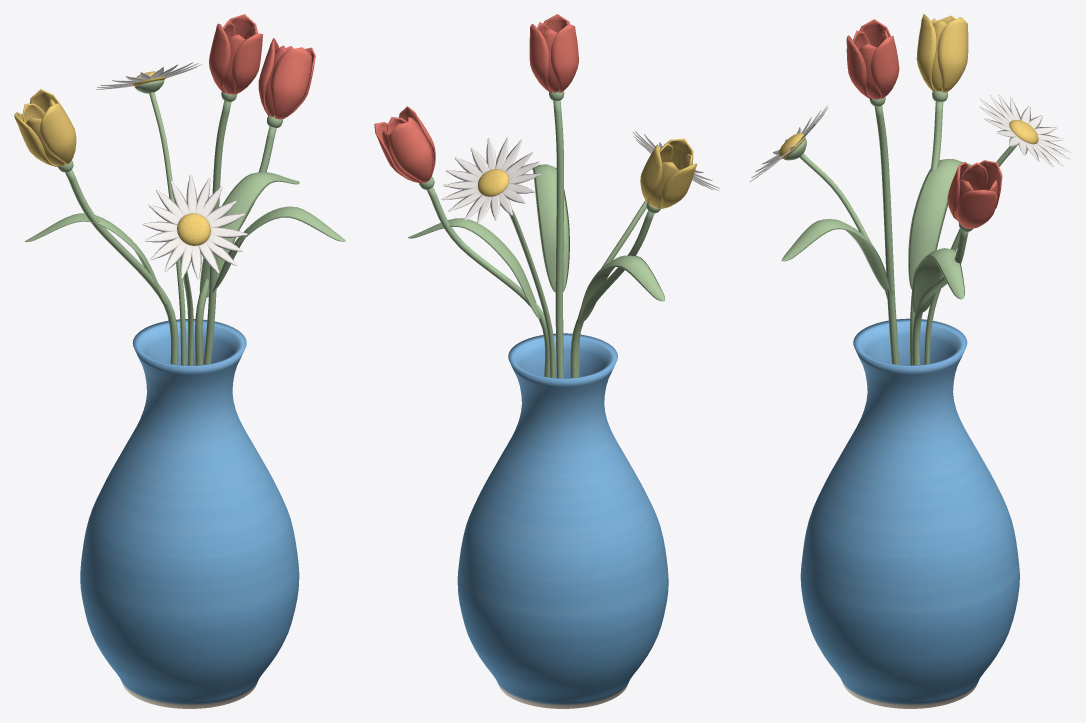
Rendered from flower-vase.glb.
3 views of the same model, side by side, from view 1: azimuth 30°, elevation 25°; view 2: azimuth 150°, elevation 25°; view 3: azimuth 270°, elevation 25° (orthographic). The views are drawn at different scales.
Parts seen in each view (by area): view 1: vase_body; view 2: vase_body; view 3: vase_body.
Boxes of the visible parts, <box> form: vase_body: <box>14,14,345,708</box>; vase_body: <box>374,14,719,708</box>; vase_body: <box>750,14,1071,708</box>.
Size of the model in its own units: 0.2431 by 0.4939 by 0.2156.
1 material, 1 textured.
